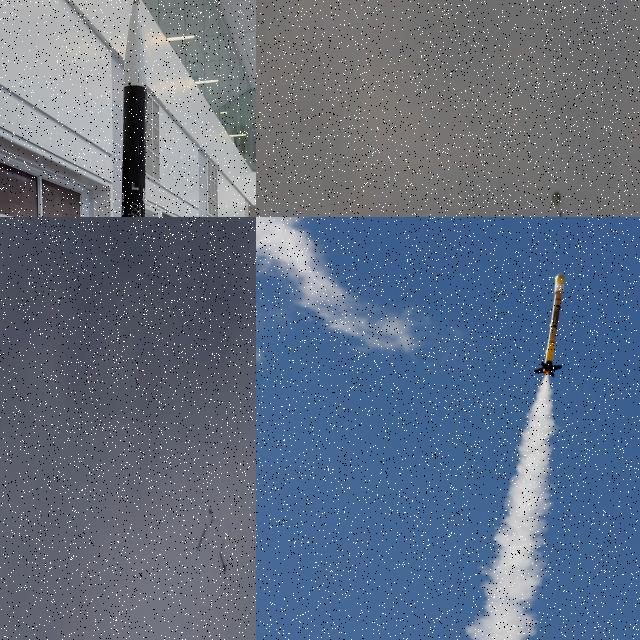Rocket: (121, 0, 147, 217), (533, 273, 565, 378), (219, 550, 227, 573)
